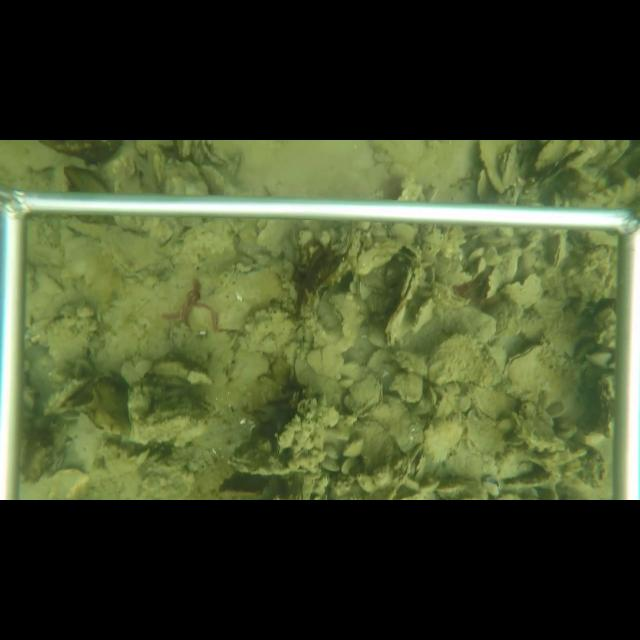Oyster-Closed: (504, 343, 587, 419), (425, 333, 505, 389), (42, 314, 97, 372), (470, 382, 518, 425), (475, 140, 512, 194), (328, 294, 370, 341), (344, 373, 385, 420), (529, 141, 568, 178), (410, 297, 435, 336), (498, 143, 518, 191), (478, 265, 501, 301), (549, 235, 568, 271), (355, 282, 371, 301), (368, 295, 382, 314)
Oyster-Open: (385, 242, 425, 347), (42, 378, 99, 418)
